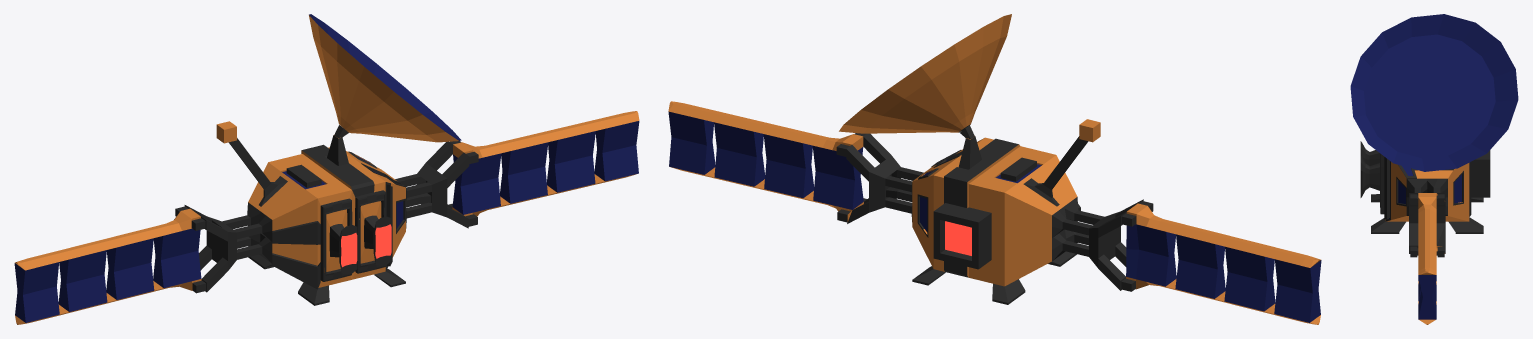
Rendered from SatelliteEnemyTakeThree.fbx.
3 renders of one model, left to right at view 1: azimuth 30°, elevation 25°; view 2: azimuth 150°, elevation 25°; view 3: azimuth 270°, elevation 25°, orthographic. The views are drawn at different scales.
Visible parts, largest first — view 1: Dish Plate; view 2: Dish Plate; view 3: Dish Plate.
Boxes of the visible parts, <box> form: Dish Plate: <box>14,14,639,324</box>; Dish Plate: <box>668,14,1321,324</box>; Dish Plate: <box>1350,14,1518,324</box>.
Bounding box in the file's own units: 909 × 333 × 252.
